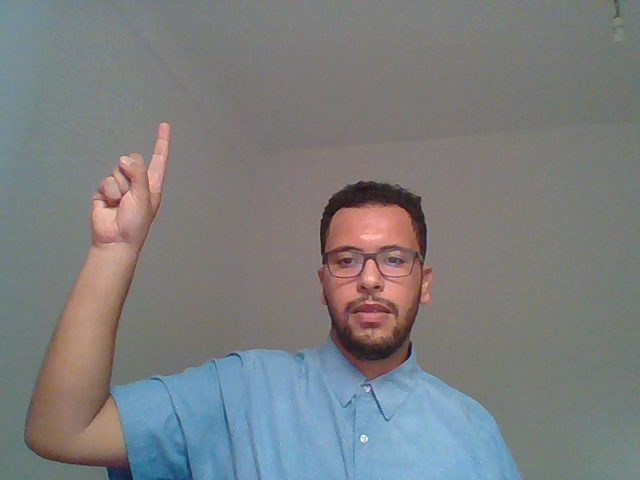handup: (61, 104, 187, 365)
